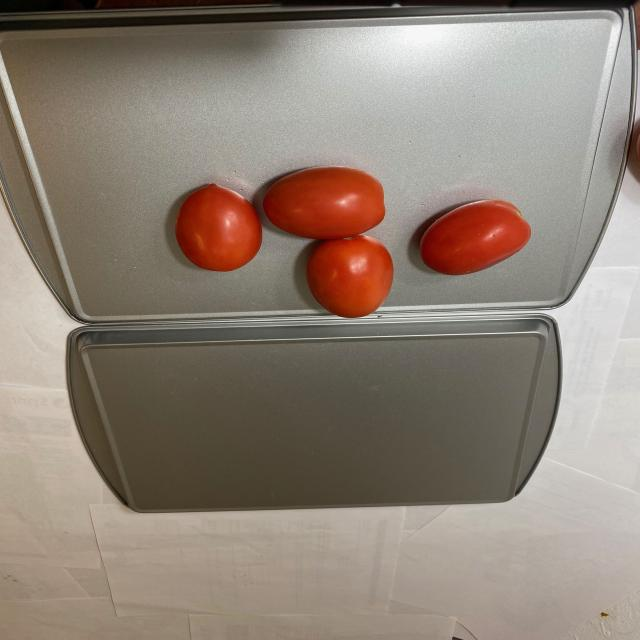tomato: (169, 166, 534, 316)
